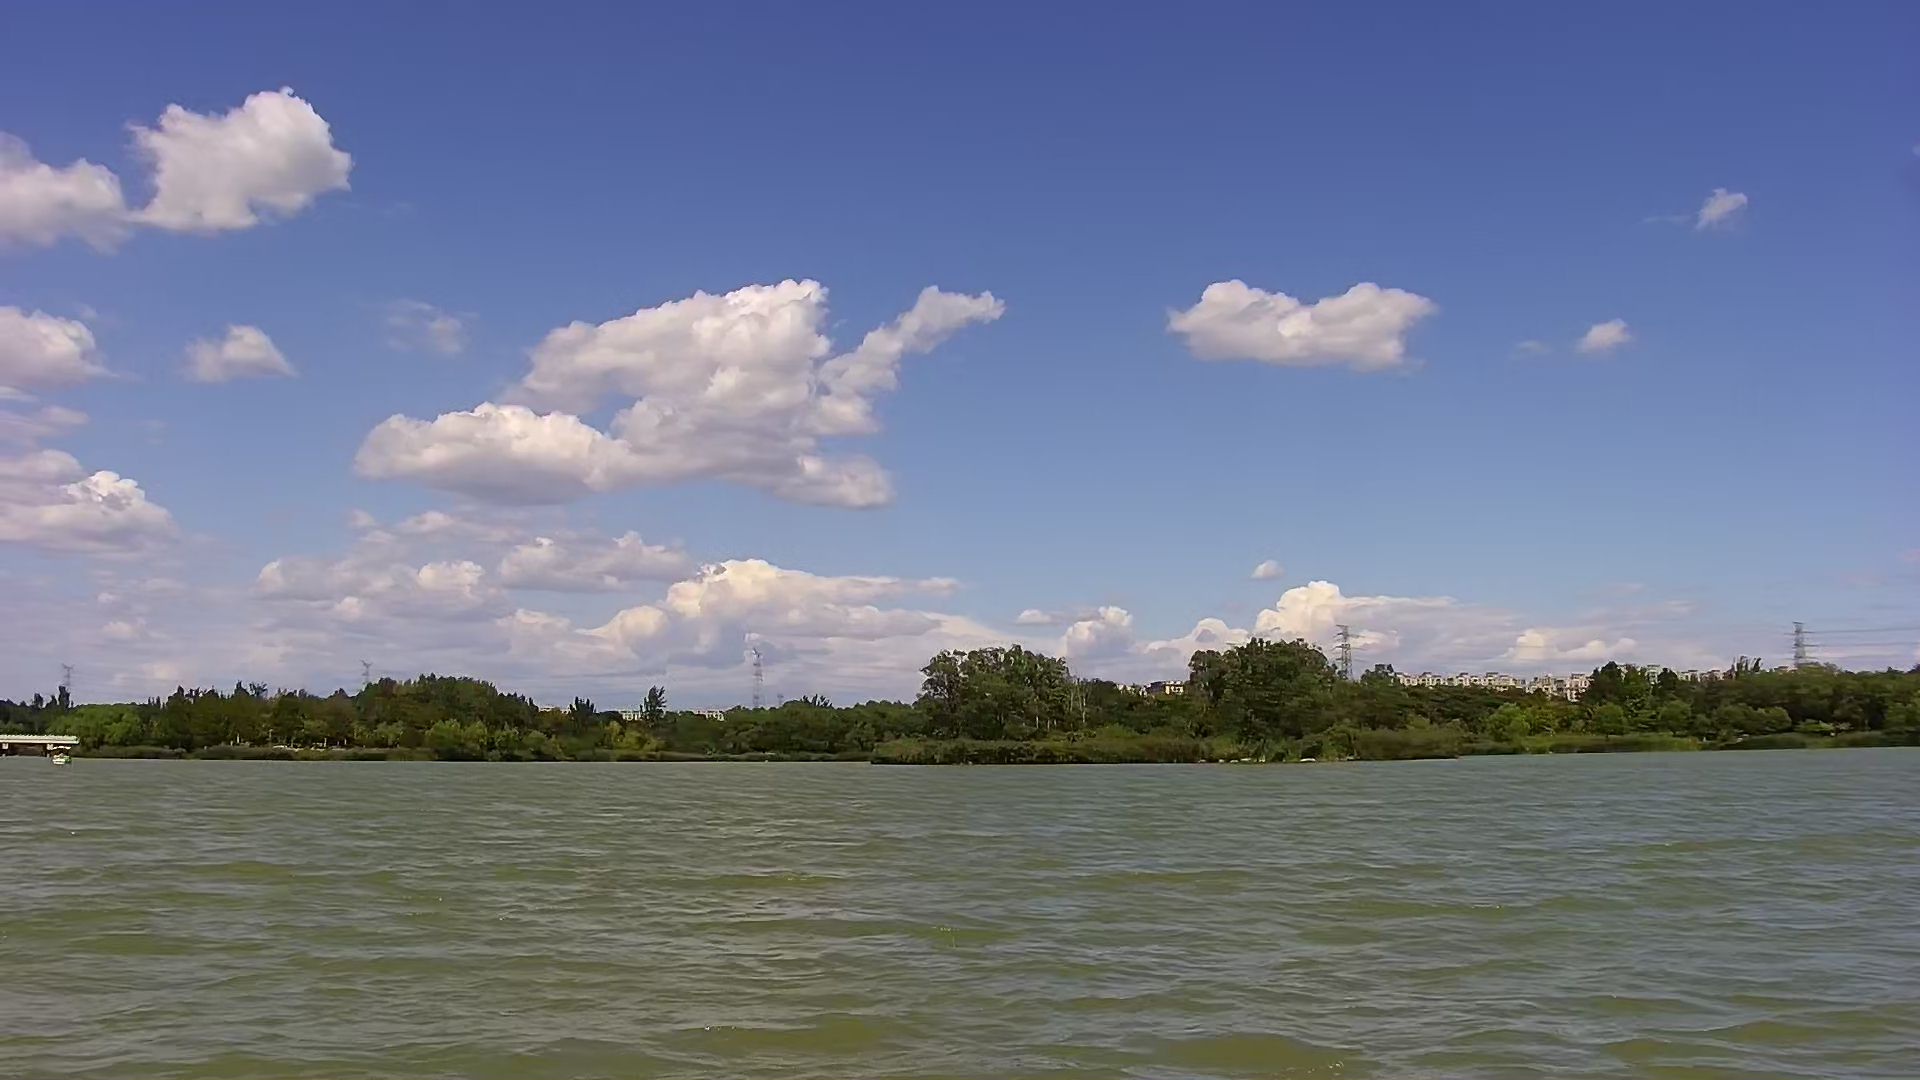boat: (47, 738, 79, 774)
bridge: (5, 723, 76, 758)
